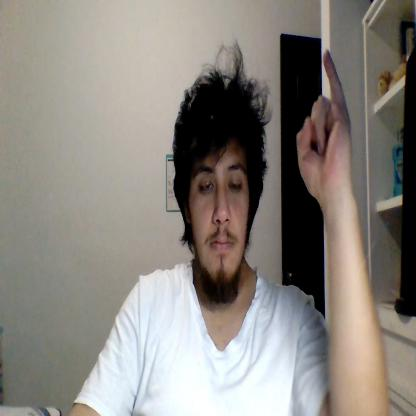I: (296, 50, 352, 202)
